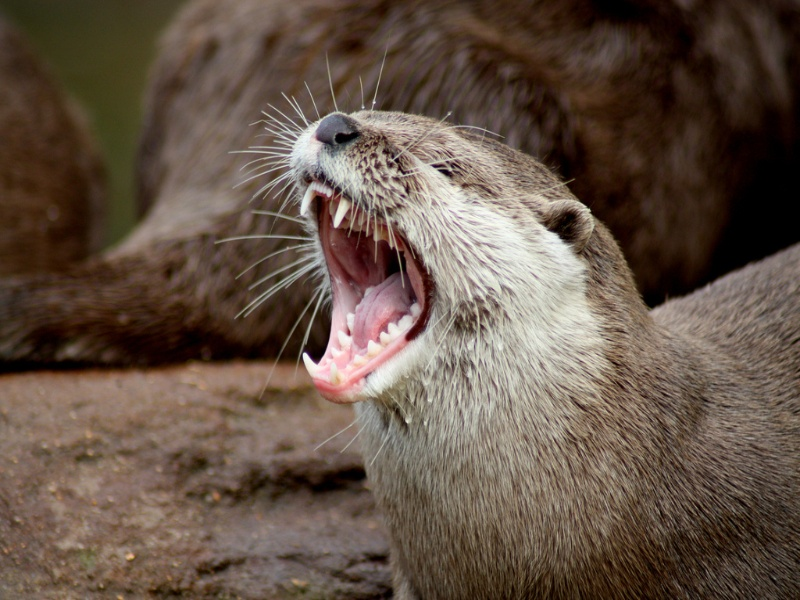minkish: (276, 114, 800, 589)
